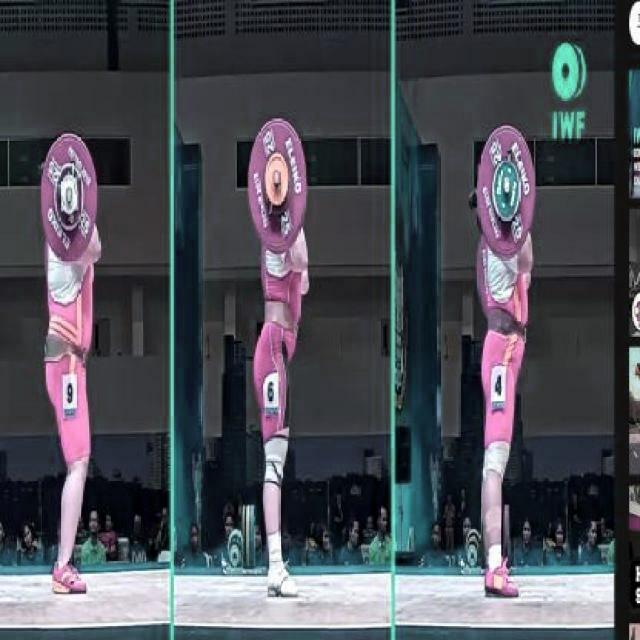barbell: (246, 113, 310, 253), (475, 120, 539, 260), (37, 130, 98, 272)
